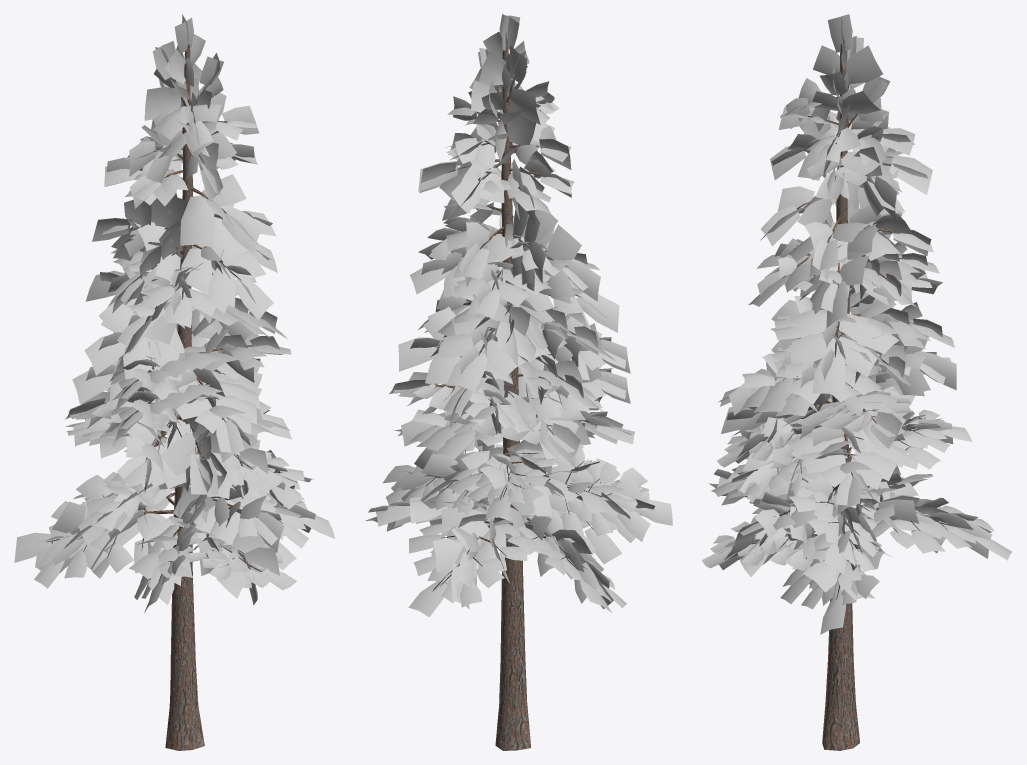
File: D_Tree_003_a.fbx
The picture shows the model from 3 angles, left to right: view 1: azimuth 30°, elevation 25°; view 2: azimuth 150°, elevation 25°; view 3: azimuth 270°, elevation 25°; orthographic projection.
Parts seen in each view (by area): view 1: D_Tree_003_a; view 2: D_Tree_003_a; view 3: D_Tree_003_a.
Part boxes in pixels (x1,y1,x2,y2): D_Tree_003_a: (14, 14, 335, 750); D_Tree_003_a: (365, 14, 672, 750); D_Tree_003_a: (701, 14, 1011, 750).
Size of the model in its own units: 5.99 by 14.82 by 5.72.
